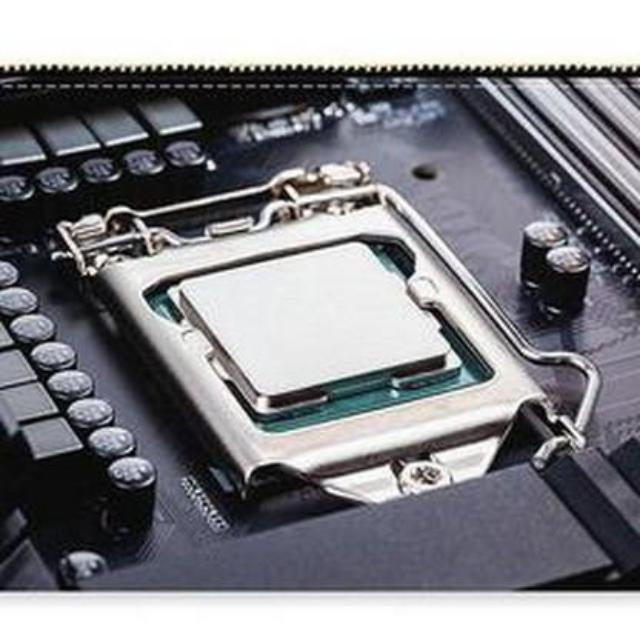CPU: (153, 230, 462, 422)
